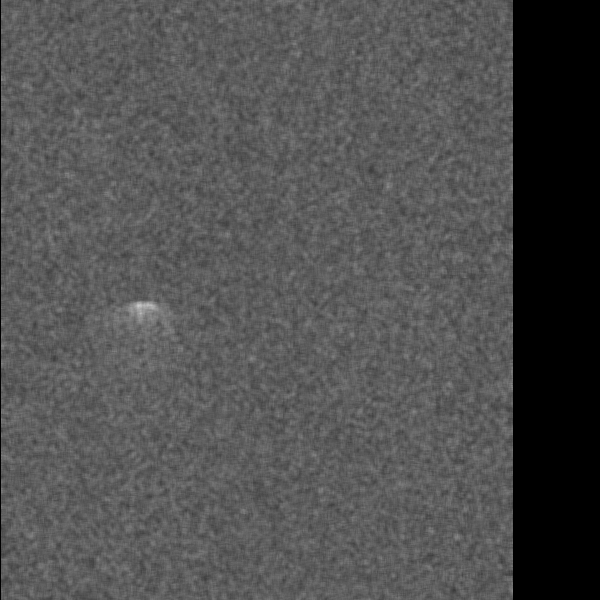spark: (127, 293, 169, 343)
